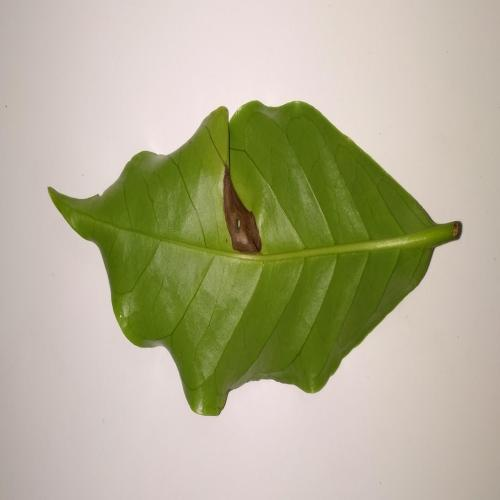miner: (223, 166, 261, 254)
